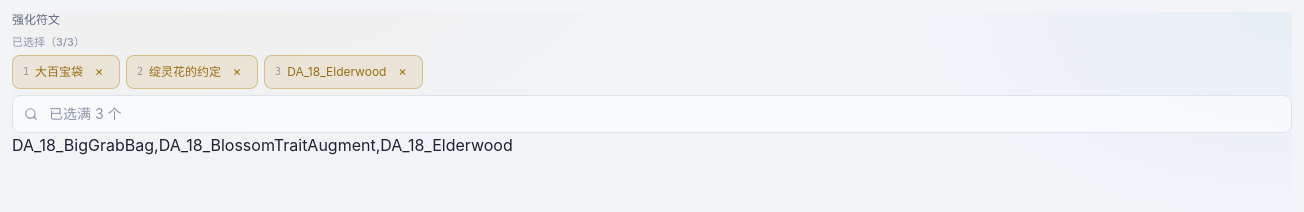
Test case: AugmentSelector › stops at three augments and says why
Focus the dropdown labelled "强化符文" at (652, 114), box [12,94,1292,132]
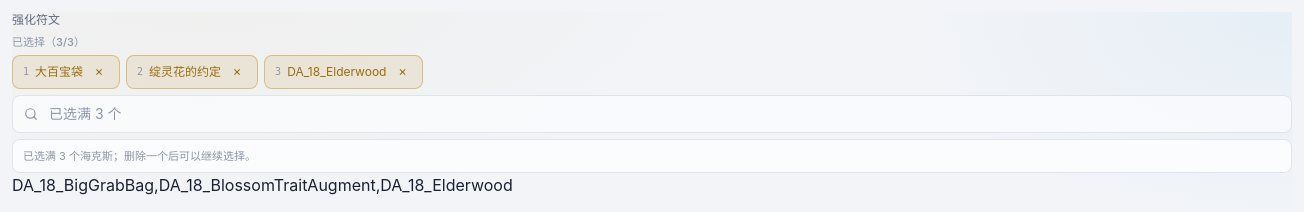
Result: the text "已选满 3 个海克斯；删除一个后可以继续选择。" is shown at [12,138,1292,173]
